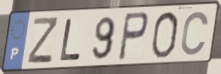9: (93, 15, 117, 62)
C: (179, 10, 211, 58)
L: (58, 17, 83, 63)
O: (149, 10, 180, 61)
P: (116, 10, 150, 63)
Z: (26, 16, 60, 66)
